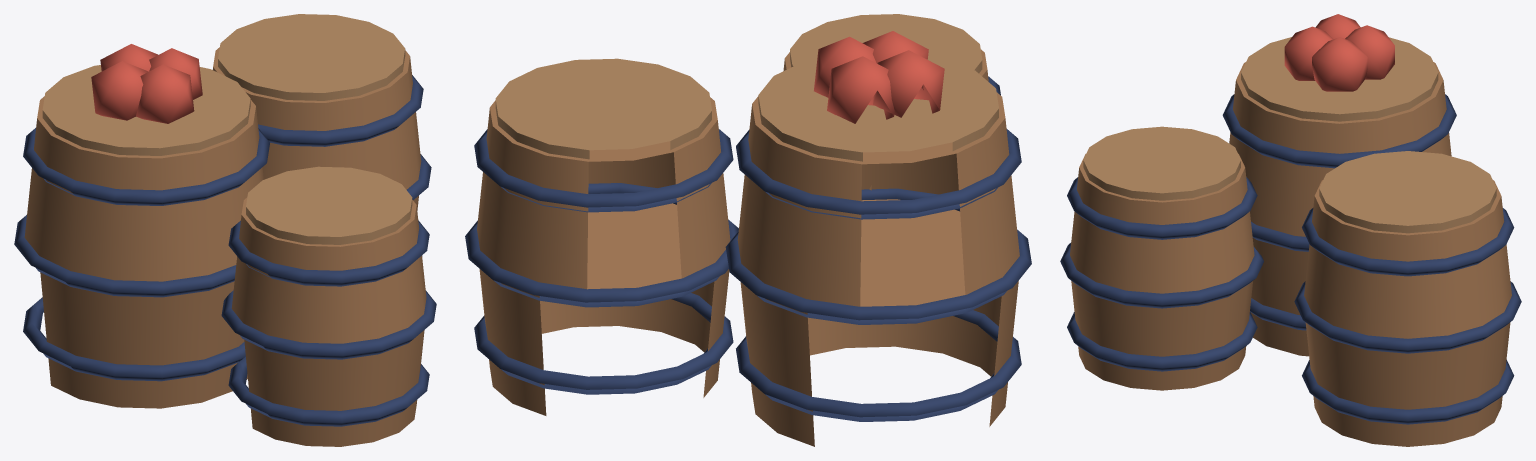
Rendered from ac_barrels.glb.
3 views of the same model, side by side, from view 1: azimuth 30°, elevation 25°; view 2: azimuth 150°, elevation 25°; view 3: azimuth 270°, elevation 25° (orthographic). The views are drawn at different scales.
Parts seen in each view (by area): view 1: cyl; view 2: cyl; view 3: cyl.
Part boxes in pixels (x1,y1,x2,y2): cyl: (14, 14, 436, 446); cyl: (465, 14, 1031, 446); cyl: (1060, 14, 1521, 446).
Bounding box in the file's own units: 1.68 × 1.17 × 1.69.
